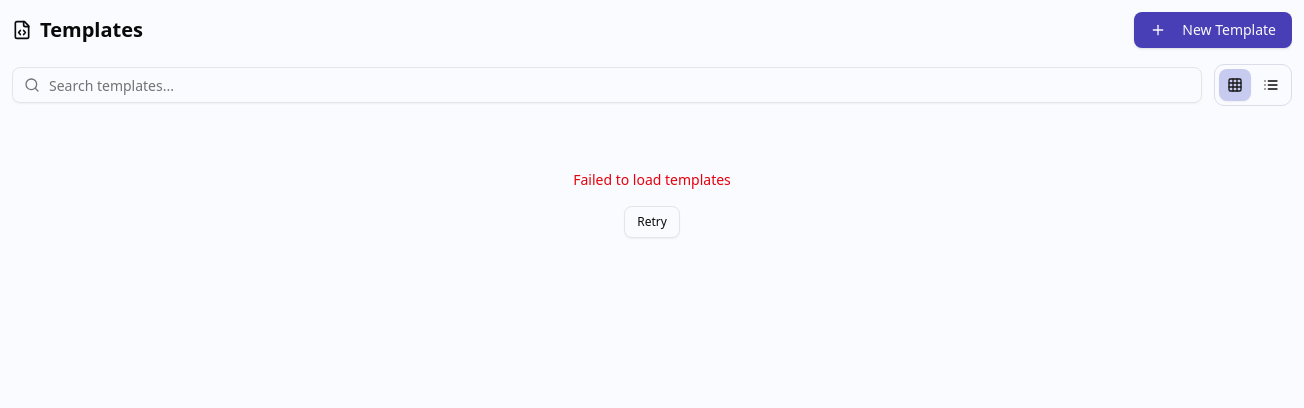
Test: TemplateManager › Error Handling › should allow retry after error
Expected: the text "Failed to load templates" is shown, [573, 170, 731, 189]
Click the button "Retry" at x=652, y=222, box [624, 206, 680, 238]
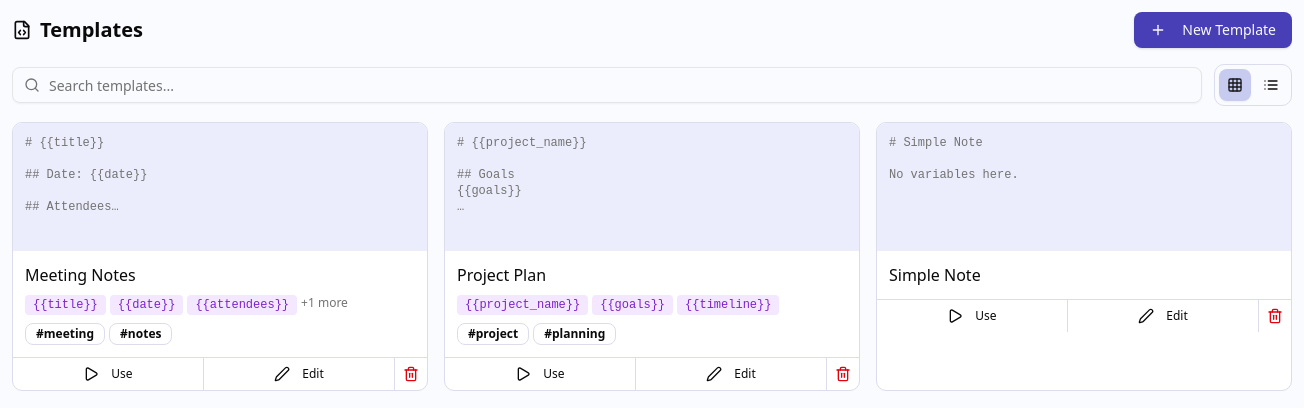
Expected: the heading "Meeting Notes" is shown, [25, 264, 136, 286]
